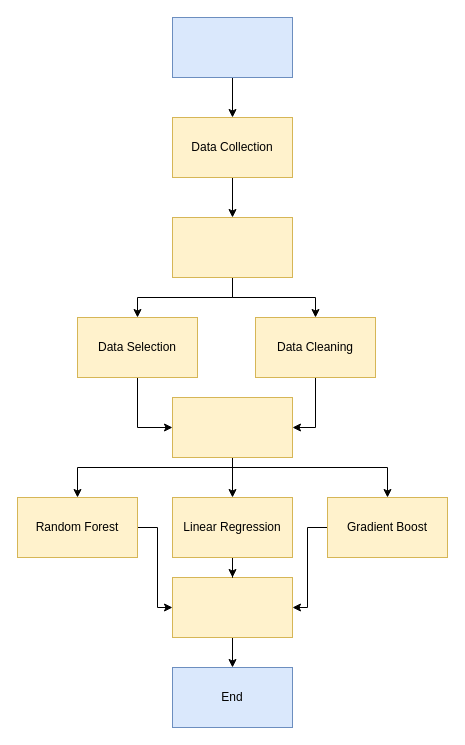
Some shapes in this 465 by 745 pixel diagram are drawn without their labels. The shapes that lost their labels are listed below. From the top down, each one's centre as x and y in pixels, then its label:
At (x=232, y=47): "Start".
At (x=232, y=247): "Data Preprocess".
At (x=232, y=427): "Data Mining".
At (x=232, y=607): "Result Evaluation".
